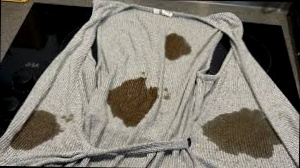coffee: (218, 112, 274, 148), (114, 81, 154, 118), (26, 117, 51, 141), (165, 36, 188, 59)
